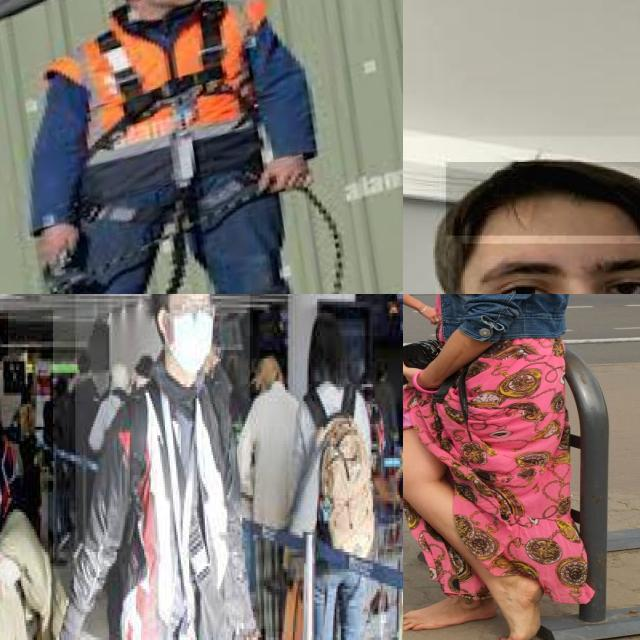Barefoots: (494, 577, 545, 640), (403, 598, 496, 631)
Harness: (83, 0, 238, 161)
No_Glasses: (482, 239, 640, 294)
face_mask: (169, 294, 211, 372)
face_nomask: (462, 243, 640, 294)
hand_noglove: (0, 543, 22, 600)
head_nohelmet: (446, 162, 640, 235)
person: (75, 294, 251, 640), (403, 136, 640, 294), (0, 310, 54, 640)
